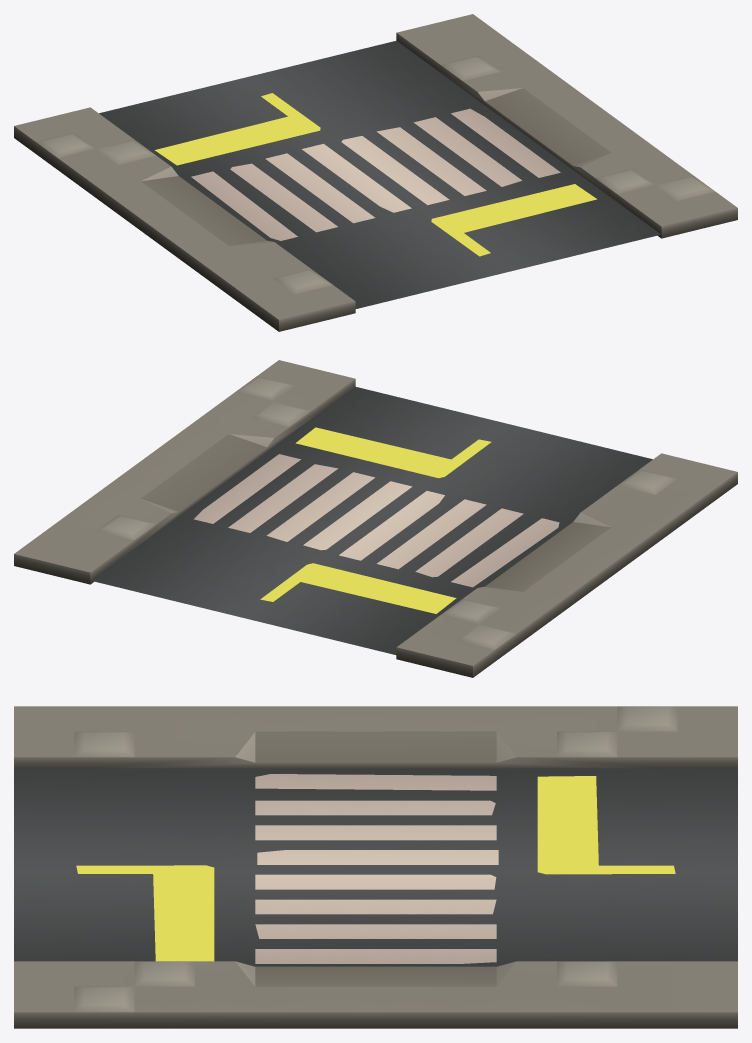
The model's file is Road_1W.fbx.
3 views of the same model, one above another, from view 1: azimuth 30°, elevation 25°; view 2: azimuth 150°, elevation 25°; view 3: azimuth 270°, elevation 25° (orthographic). The views are drawn at different scales.
Parts seen in each view (by area): view 1: Road_1W; view 2: Road_1W; view 3: Road_1W.
Boxes of the visible parts, box(x1,y1,x2,y2) form: Road_1W: box(14, 14, 737, 331); Road_1W: box(14, 360, 737, 677); Road_1W: box(14, 706, 737, 1028).
Size of the model in its own units: 12 by 0.3565 by 12.
